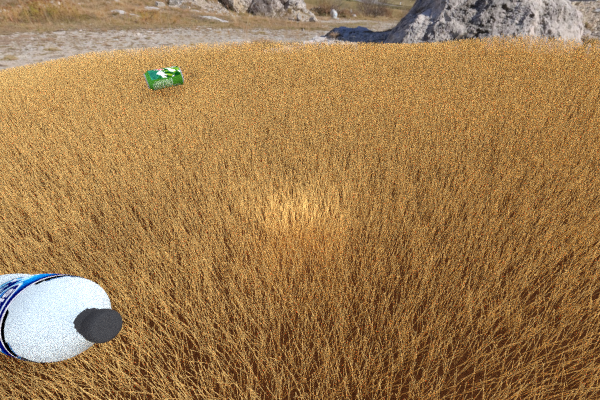Plastic Bottle: (0, 273, 122, 362), (143, 65, 184, 90)
